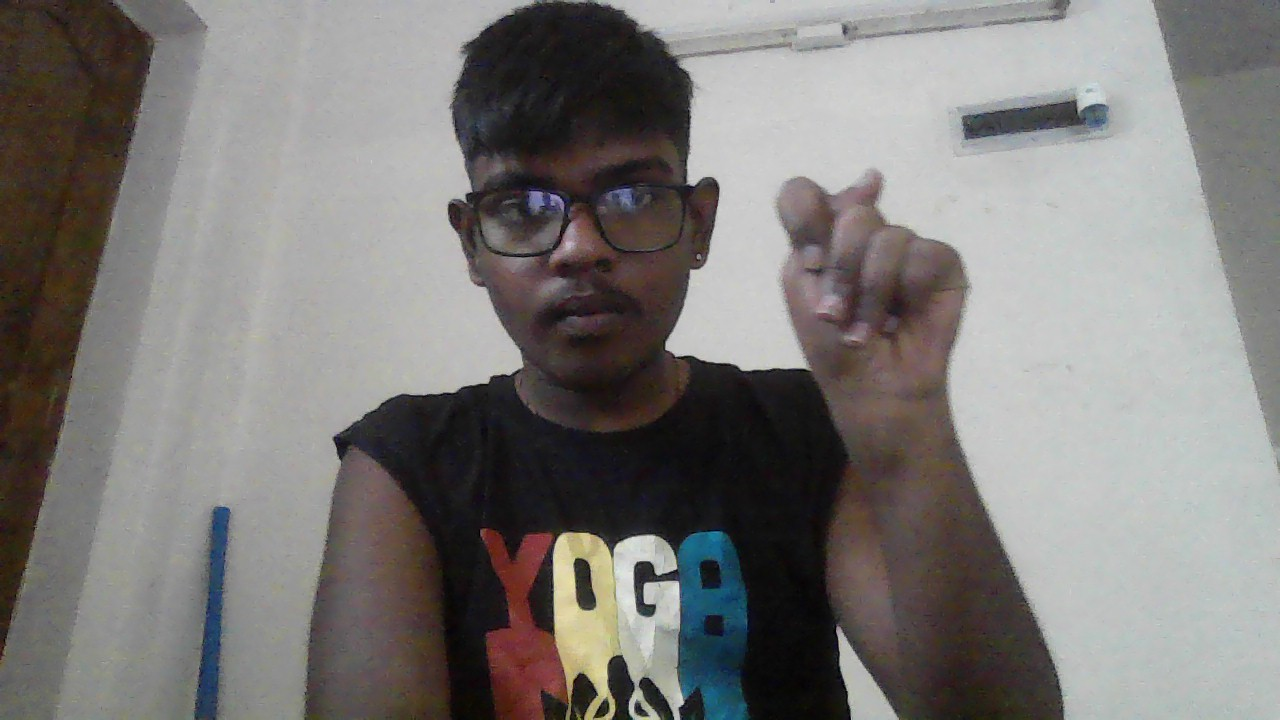T: (777, 168, 967, 401)
